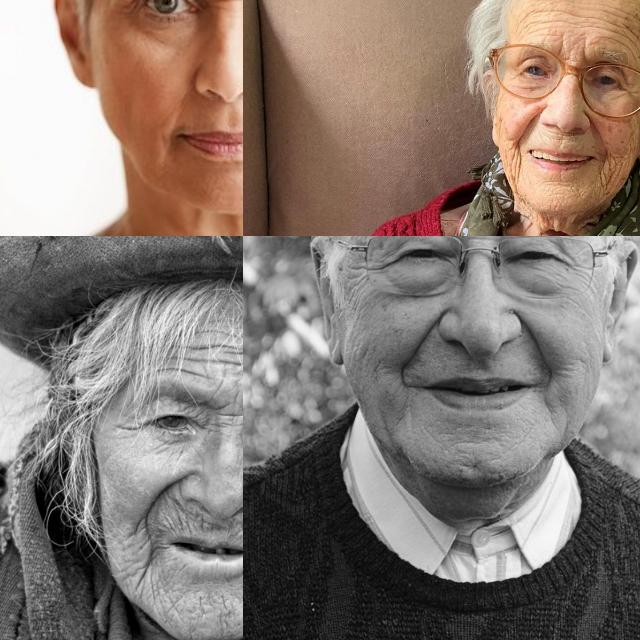chin: (536, 175, 580, 193), (153, 590, 183, 616)
crows_feet: (358, 250, 389, 280), (556, 250, 584, 280), (115, 414, 143, 438)
forehead: (598, 4, 640, 42), (520, 6, 564, 36), (164, 360, 208, 382), (190, 335, 238, 355), (213, 349, 243, 376)
frown_line: (216, 403, 243, 431), (556, 39, 570, 65), (576, 36, 590, 59), (209, 0, 243, 8)
gummy_smile: (402, 316, 440, 374), (518, 316, 554, 364), (147, 472, 183, 514), (175, 68, 202, 102), (584, 112, 608, 148), (516, 111, 540, 143)
masseter: (620, 142, 634, 164)
sad_smile: (132, 546, 158, 586), (594, 156, 614, 192), (506, 150, 524, 188)
smoker_lines: (164, 510, 196, 536)
